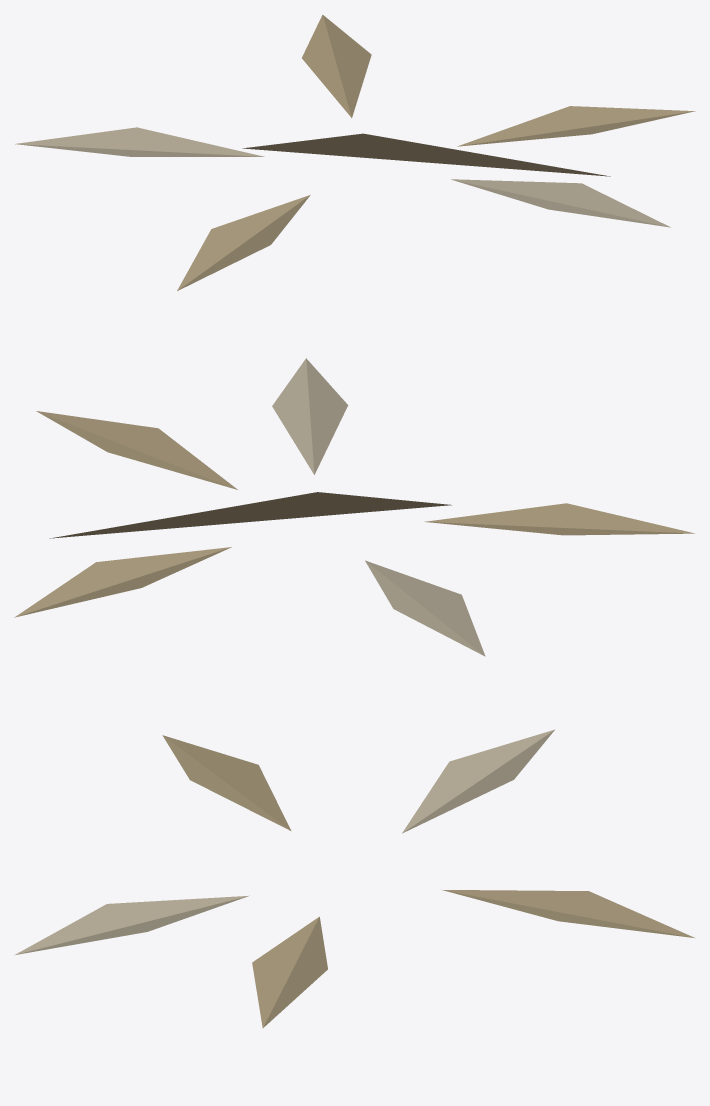
Rendered from cao.luwei@withered__spring.glb.
3 views of the same model, one above another, from view 1: azimuth 30°, elevation 25°; view 2: azimuth 150°, elevation 25°; view 3: azimuth 270°, elevation 25° (orthographic). The views are drawn at different scales.
Parts seen in each view (by area): view 1: cao.luwei@withered__spring; view 2: cao.luwei@withered__spring; view 3: cao.luwei@withered__spring.
Part boxes in pixels (x1,y1,x2,y2): cao.luwei@withered__spring: (15, 14, 695, 290); cao.luwei@withered__spring: (14, 358, 694, 656); cao.luwei@withered__spring: (14, 729, 695, 1028).
Size of the model in its own units: 0.4775 by 0.084 by 0.4533.
